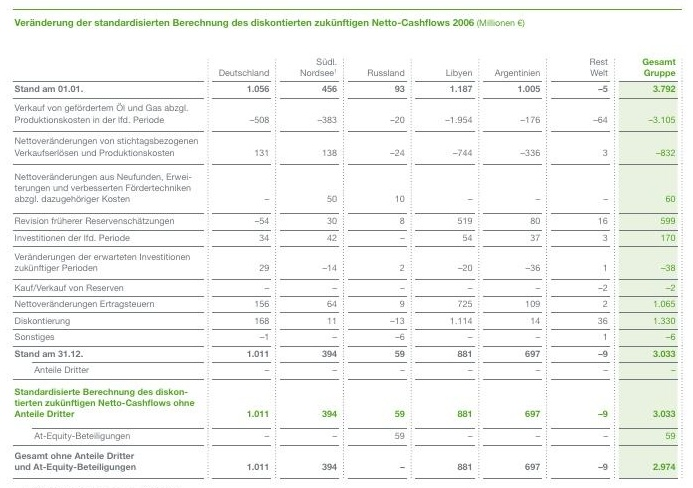table: (0, 0, 693, 488)
